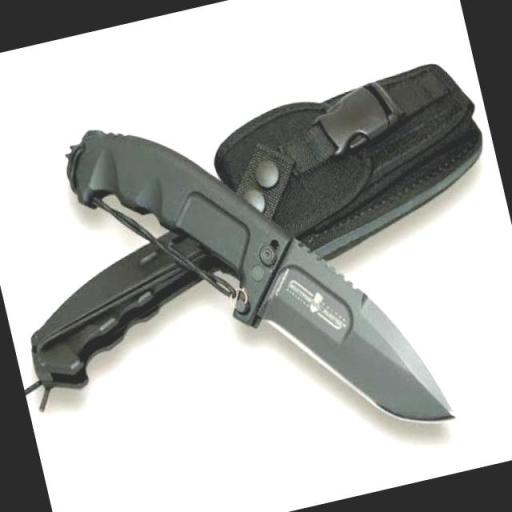knife: (224, 200, 462, 469)
